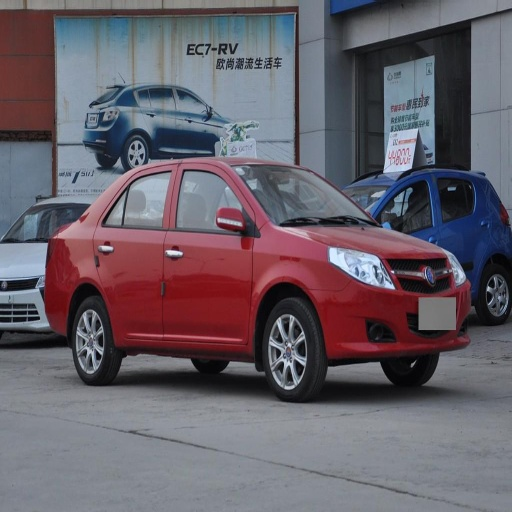front_bumper: (319, 257, 472, 359)
front_right_door: (164, 164, 251, 343)
front_right_light: (332, 248, 394, 289)
